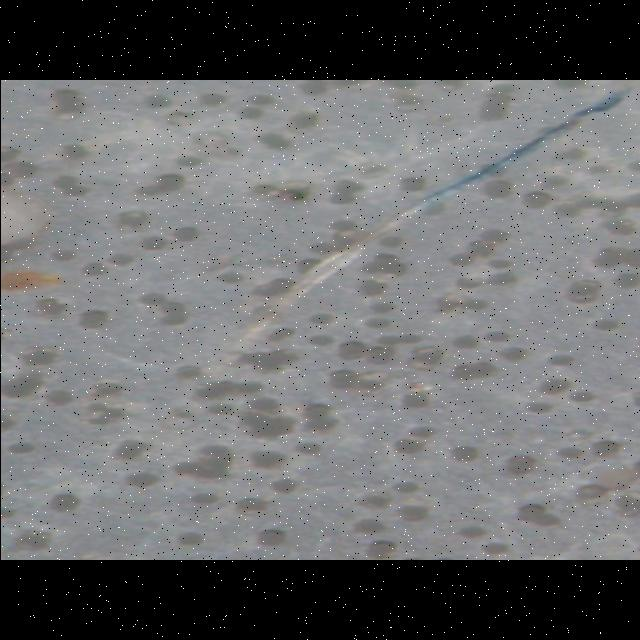Fibre: (166, 80, 640, 402)
